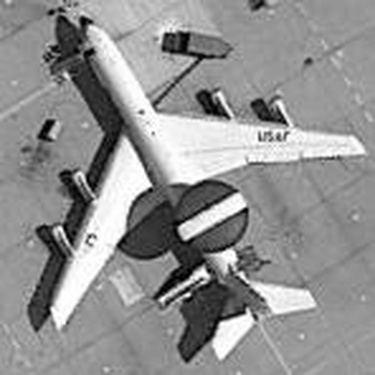airplane: (32, 8, 373, 365)
